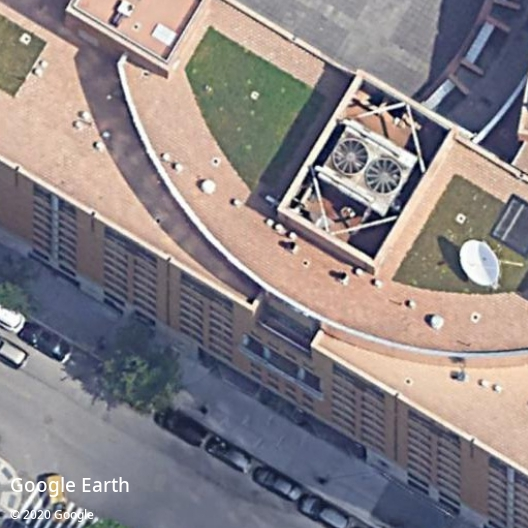Vent: (333, 139, 369, 175), (367, 158, 401, 193)
